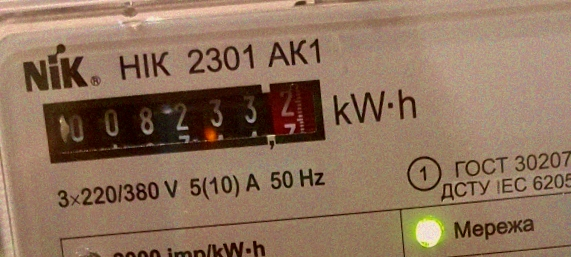0: (64, 110, 87, 144), (99, 106, 121, 138)
2: (168, 99, 191, 133), (276, 86, 296, 118)
3: (205, 95, 225, 128), (240, 91, 259, 124)
8: (135, 103, 155, 136)
screen: (30, 65, 337, 174)
